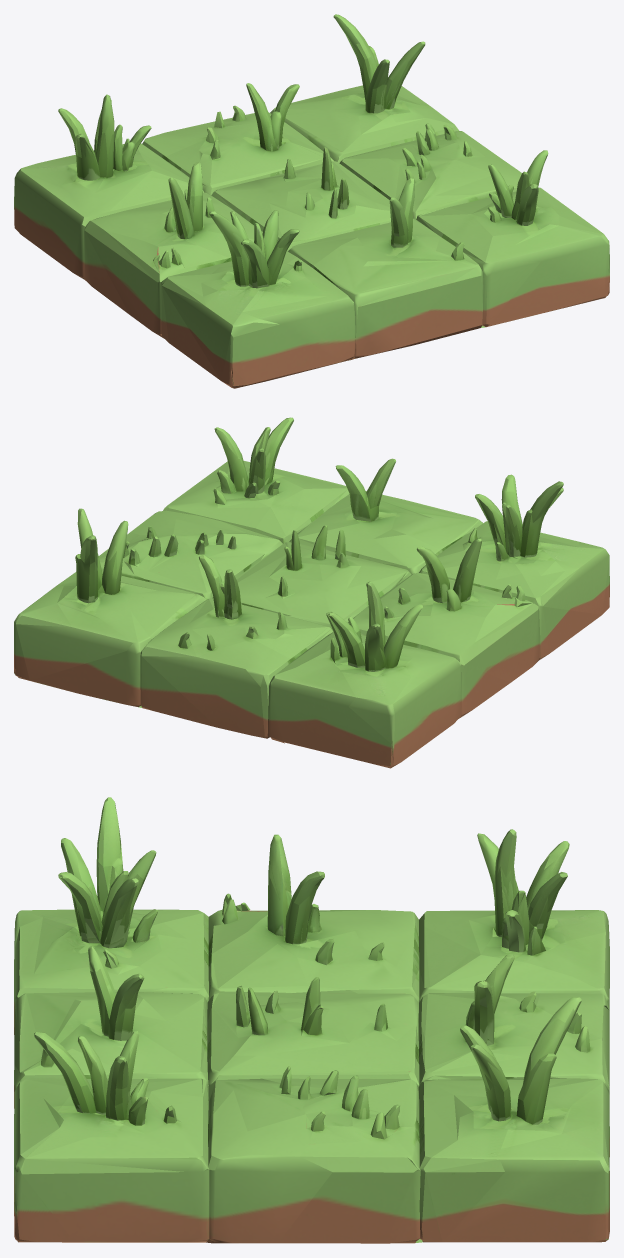
Rendered from grass.glb.
The picture shows the model from 3 angles, top to bottom: view 1: azimuth 30°, elevation 25°; view 2: azimuth 150°, elevation 25°; view 3: azimuth 270°, elevation 25°; orthographic projection. The views are drawn at different scales.
Visible parts, largest first — view 1: output_unwrapped; view 2: output_unwrapped; view 3: output_unwrapped.
Part boxes in pixels (x1,y1,x2,y2): output_unwrapped: (14, 14, 609, 388); output_unwrapped: (14, 417, 609, 768); output_unwrapped: (14, 797, 609, 1243).
Size of the model in its own units: 1.9 by 0.7166 by 1.89.
1 material, 1 textured.
